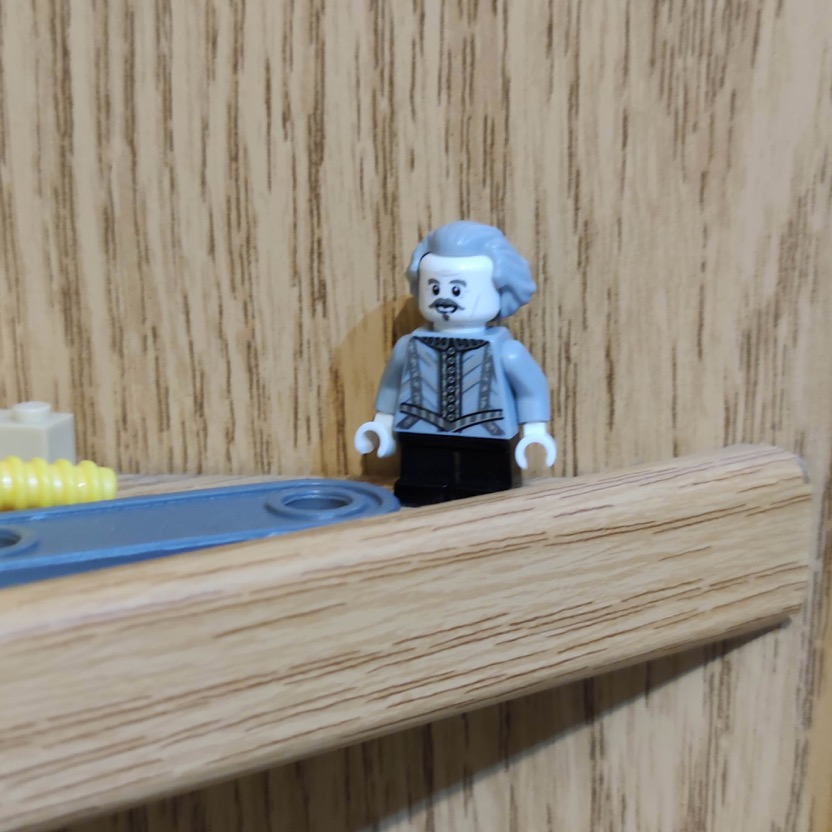lego: (354, 220, 560, 509)
